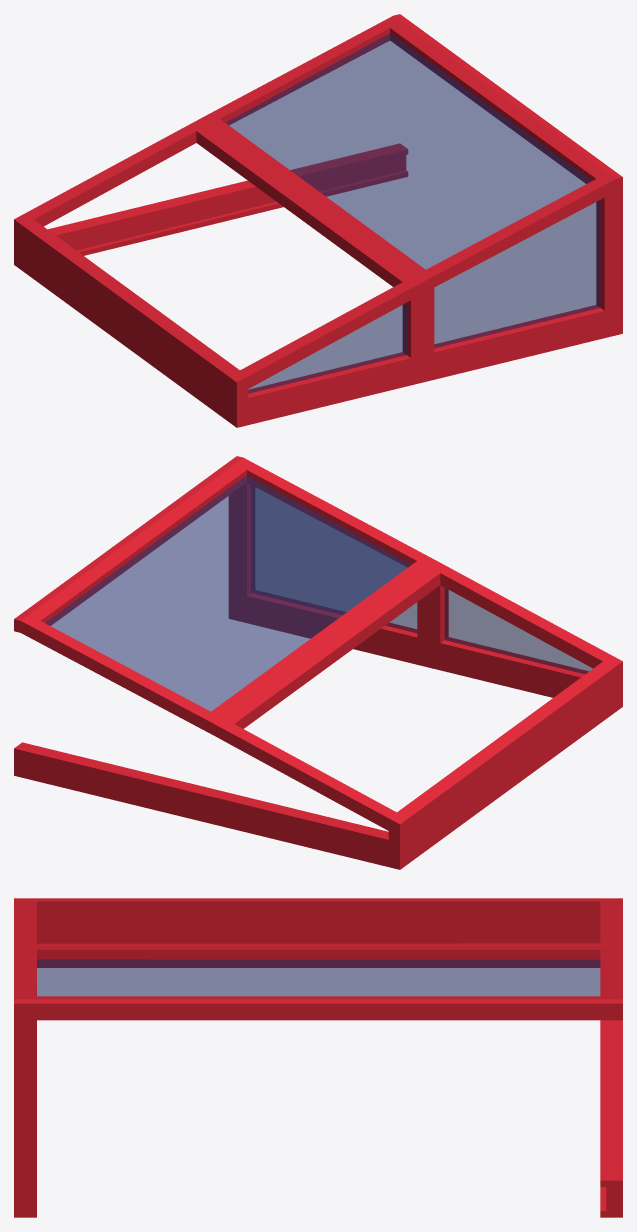
Rendered from Claraboia.L.fbx.
The picture shows the model from 3 angles, top to bottom: view 1: azimuth 30°, elevation 25°; view 2: azimuth 150°, elevation 25°; view 3: azimuth 270°, elevation 25°; orthographic projection. The views are drawn at different scales.
Visible parts, largest first — view 1: Claraboia.L; view 2: Claraboia.L; view 3: Claraboia.L.
Part boxes in pixels (x1,y1,x2,y2): Claraboia.L: (14, 14, 622, 427); Claraboia.L: (14, 456, 622, 869); Claraboia.L: (14, 898, 622, 1217).
Bounding box in the file's own units: 400 × 155 × 400.
